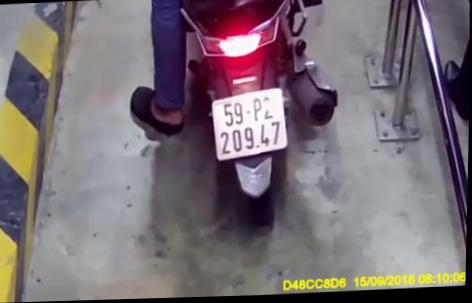LP: (208, 87, 292, 166)
